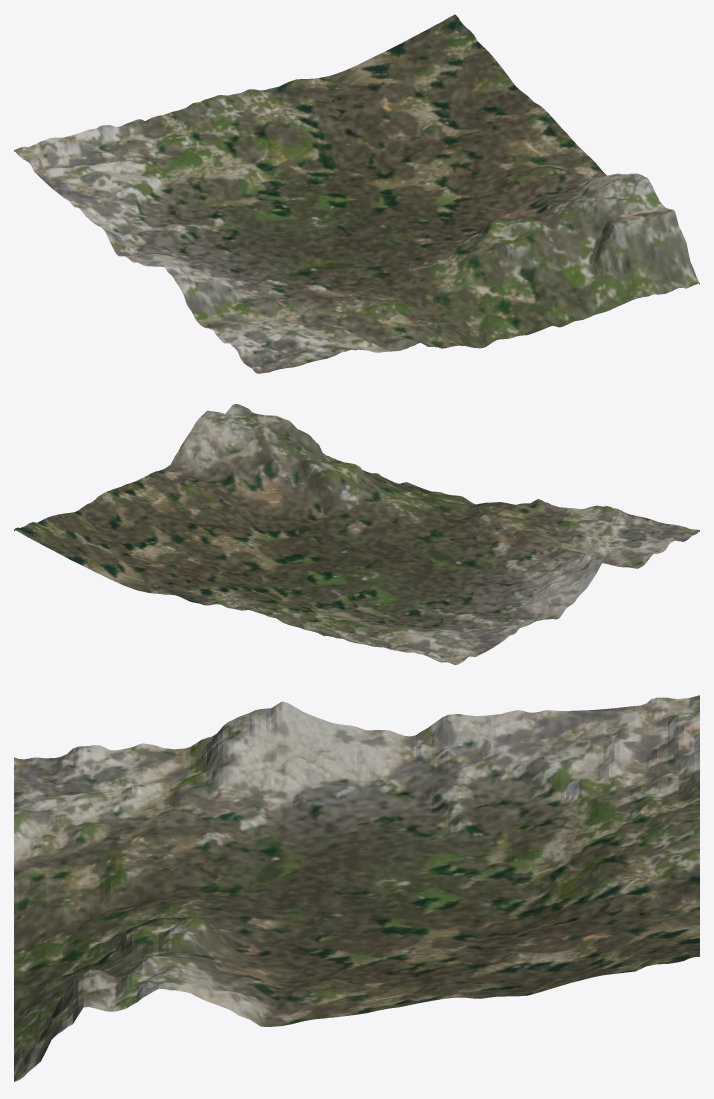
3 renders of one model, top to bottom at view 1: azimuth 30°, elevation 25°; view 2: azimuth 150°, elevation 25°; view 3: azimuth 270°, elevation 25°, orthographic. The views are drawn at different scales.
Bounding box in the file's own units: 250 × 55.92 × 241.
1 material, 1 textured.
